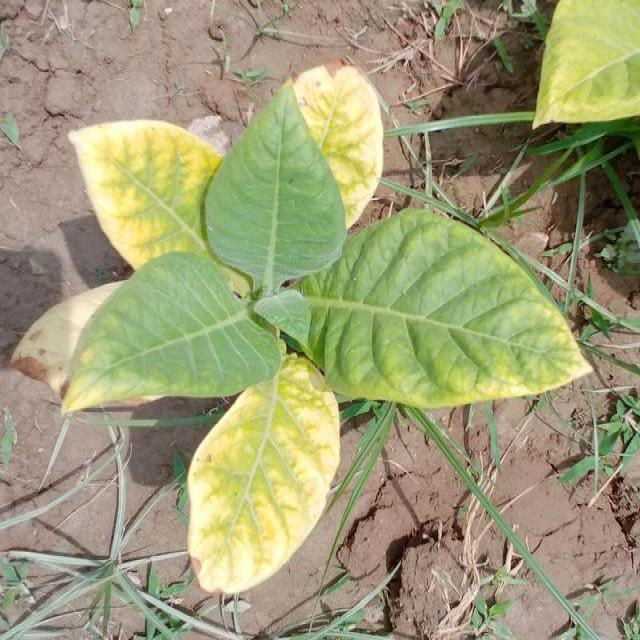crop: (42, 95, 576, 586), (526, 0, 640, 124)
